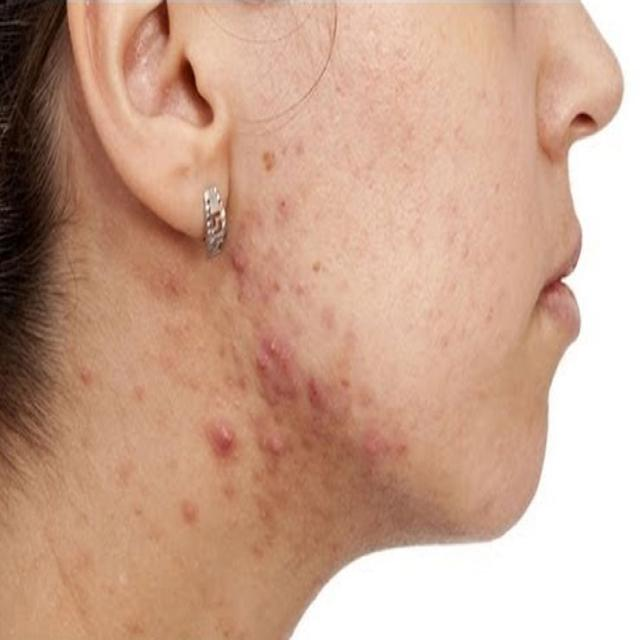acne: (245, 36, 529, 530)
